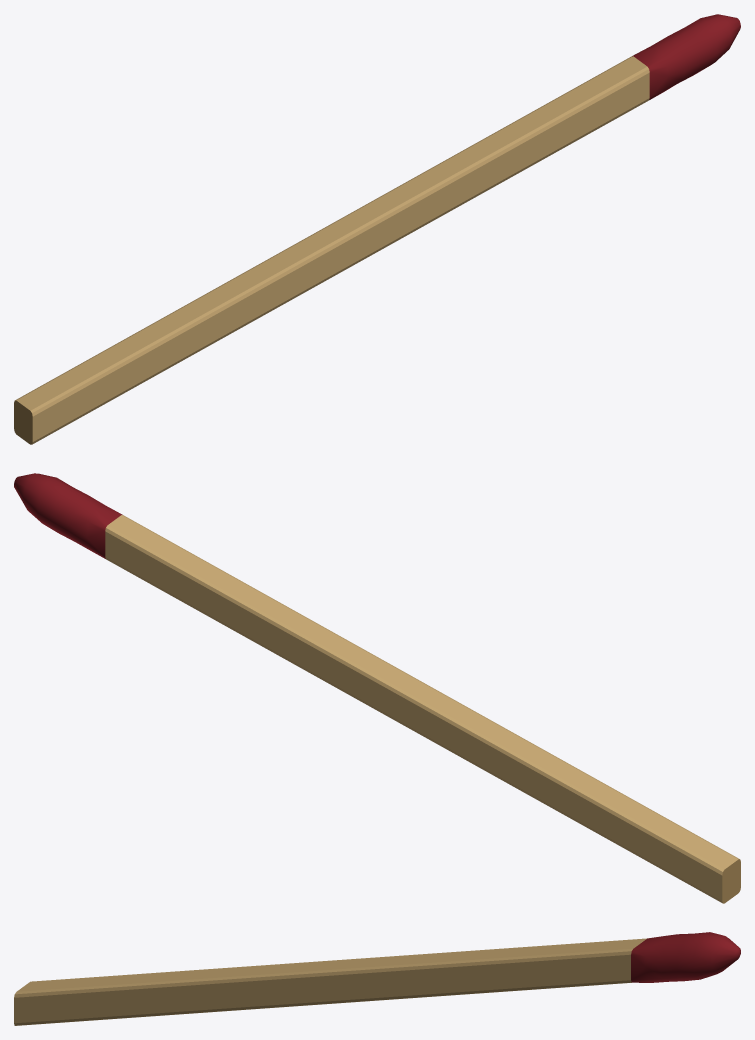
File: A-NEW-20261027-MATCH-001_LOD2_R3.glb
3 views of the same model, one above another, from view 1: azimuth 30°, elevation 25°; view 2: azimuth 150°, elevation 25°; view 3: azimuth 330°, elevation 25° (orthographic).
Parts seen in each view (by area): view 1: continuous original squared match shaft and short head; view 2: continuous original squared match shaft and short head; view 3: continuous original squared match shaft and short head.
Part boxes in pixels (x1=…): continuous original squared match shaft and short head: x1=14, y1=14, x2=740, y2=444; continuous original squared match shaft and short head: x1=14, y1=473, x2=740, y2=903; continuous original squared match shaft and short head: x1=14, y1=932, x2=740, y2=1025.
Size of the model in its own units: 0.0442 by 0.0149 by 0.00259.
